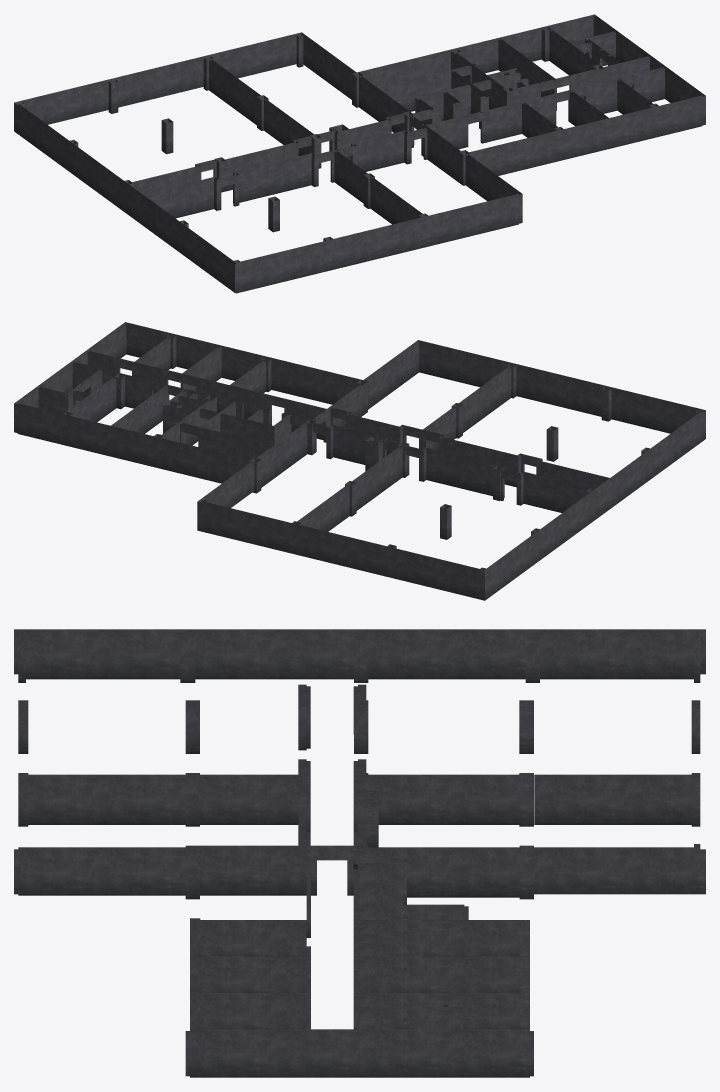
File: 2f墙体.glb
3 views of the same model, one above another, from view 1: azimuth 30°, elevation 25°; view 2: azimuth 150°, elevation 25°; view 3: azimuth 270°, elevation 25° (orthographic). The views are drawn at different scales.
Parts seen in each view (by area): view 1: 2f墙体; view 2: 2f墙体; view 3: 2f墙体.
Part boxes in pixels (box(x1,y1,x2,y2)): 2f墙体: box(14, 14, 705, 293); 2f墙体: box(14, 322, 705, 600); 2f墙体: box(14, 629, 705, 1077).
Bounding box in the file's own units: 5351 × 300 × 3894.
1 material, 1 textured.
